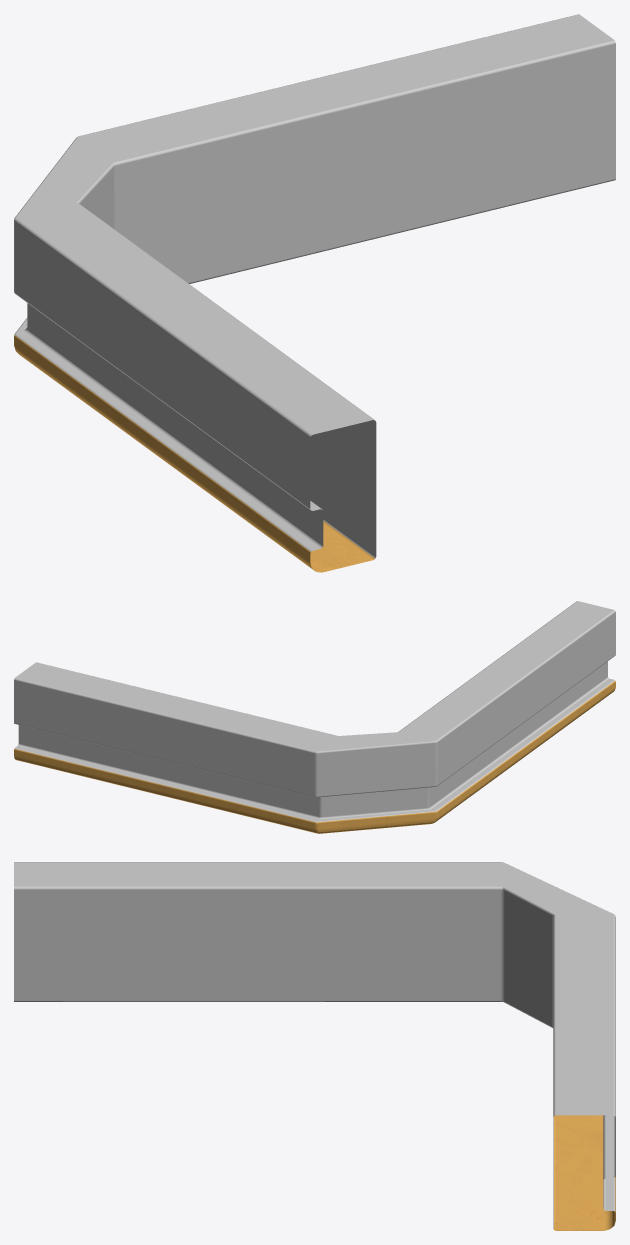
File: SM_Beam_04_Corner_03.fbx
3 renders of one model, top to bottom at view 1: azimuth 30°, elevation 25°; view 2: azimuth 150°, elevation 25°; view 3: azimuth 270°, elevation 25°, orthographic. The views are drawn at different scales.
Visible parts, largest first — view 1: SM_Beam_04_Corner_03_LOD0; view 2: SM_Beam_04_Corner_03_LOD0; view 3: SM_Beam_04_Corner_03_LOD0.
Boxes of the visible parts, left/top/right/bottom form: SM_Beam_04_Corner_03_LOD0: left=14, top=14, right=615, bottom=572; SM_Beam_04_Corner_03_LOD0: left=14, top=601, right=615, bottom=833; SM_Beam_04_Corner_03_LOD0: left=14, top=862, right=615, bottom=1230.
Size of the model in its own units: 480 by 480 by 102.
